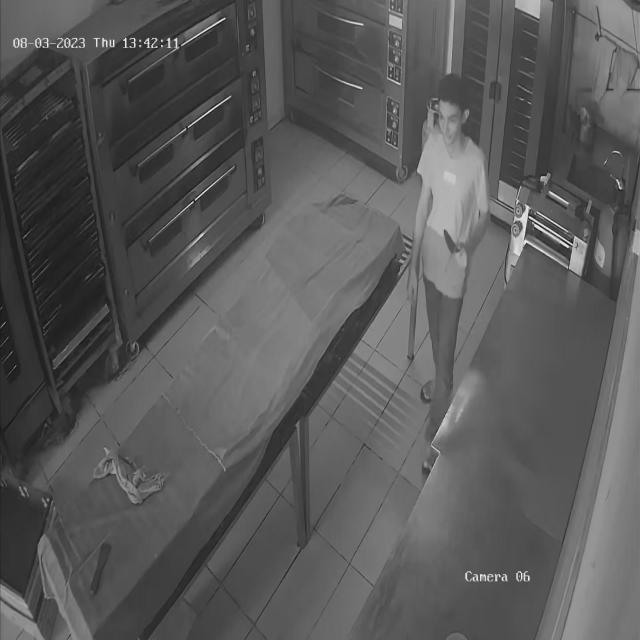Knife: (436, 220, 481, 272)
